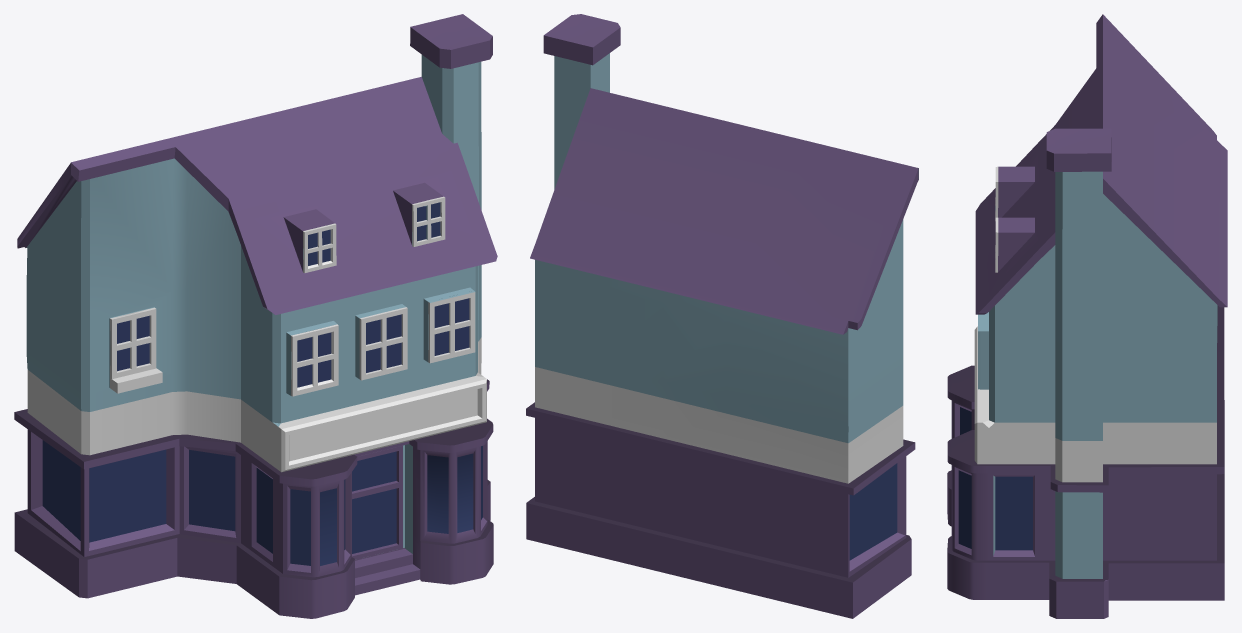
Rendered from casa final videojuego.fbx.
The picture shows the model from 3 angles, left to right: view 1: azimuth 30°, elevation 25°; view 2: azimuth 150°, elevation 25°; view 3: azimuth 270°, elevation 25°; orthographic projection. The views are drawn at different scales.
Visible parts, largest first — view 1: edificio; view 2: edificio; view 3: edificio.
Part boxes in pixels (x1,y1,x2,y2): edificio: [14, 14, 497, 618]; edificio: [526, 14, 918, 618]; edificio: [947, 14, 1227, 618].
Size of the model in its own units: 1158 by 1354 by 738.
